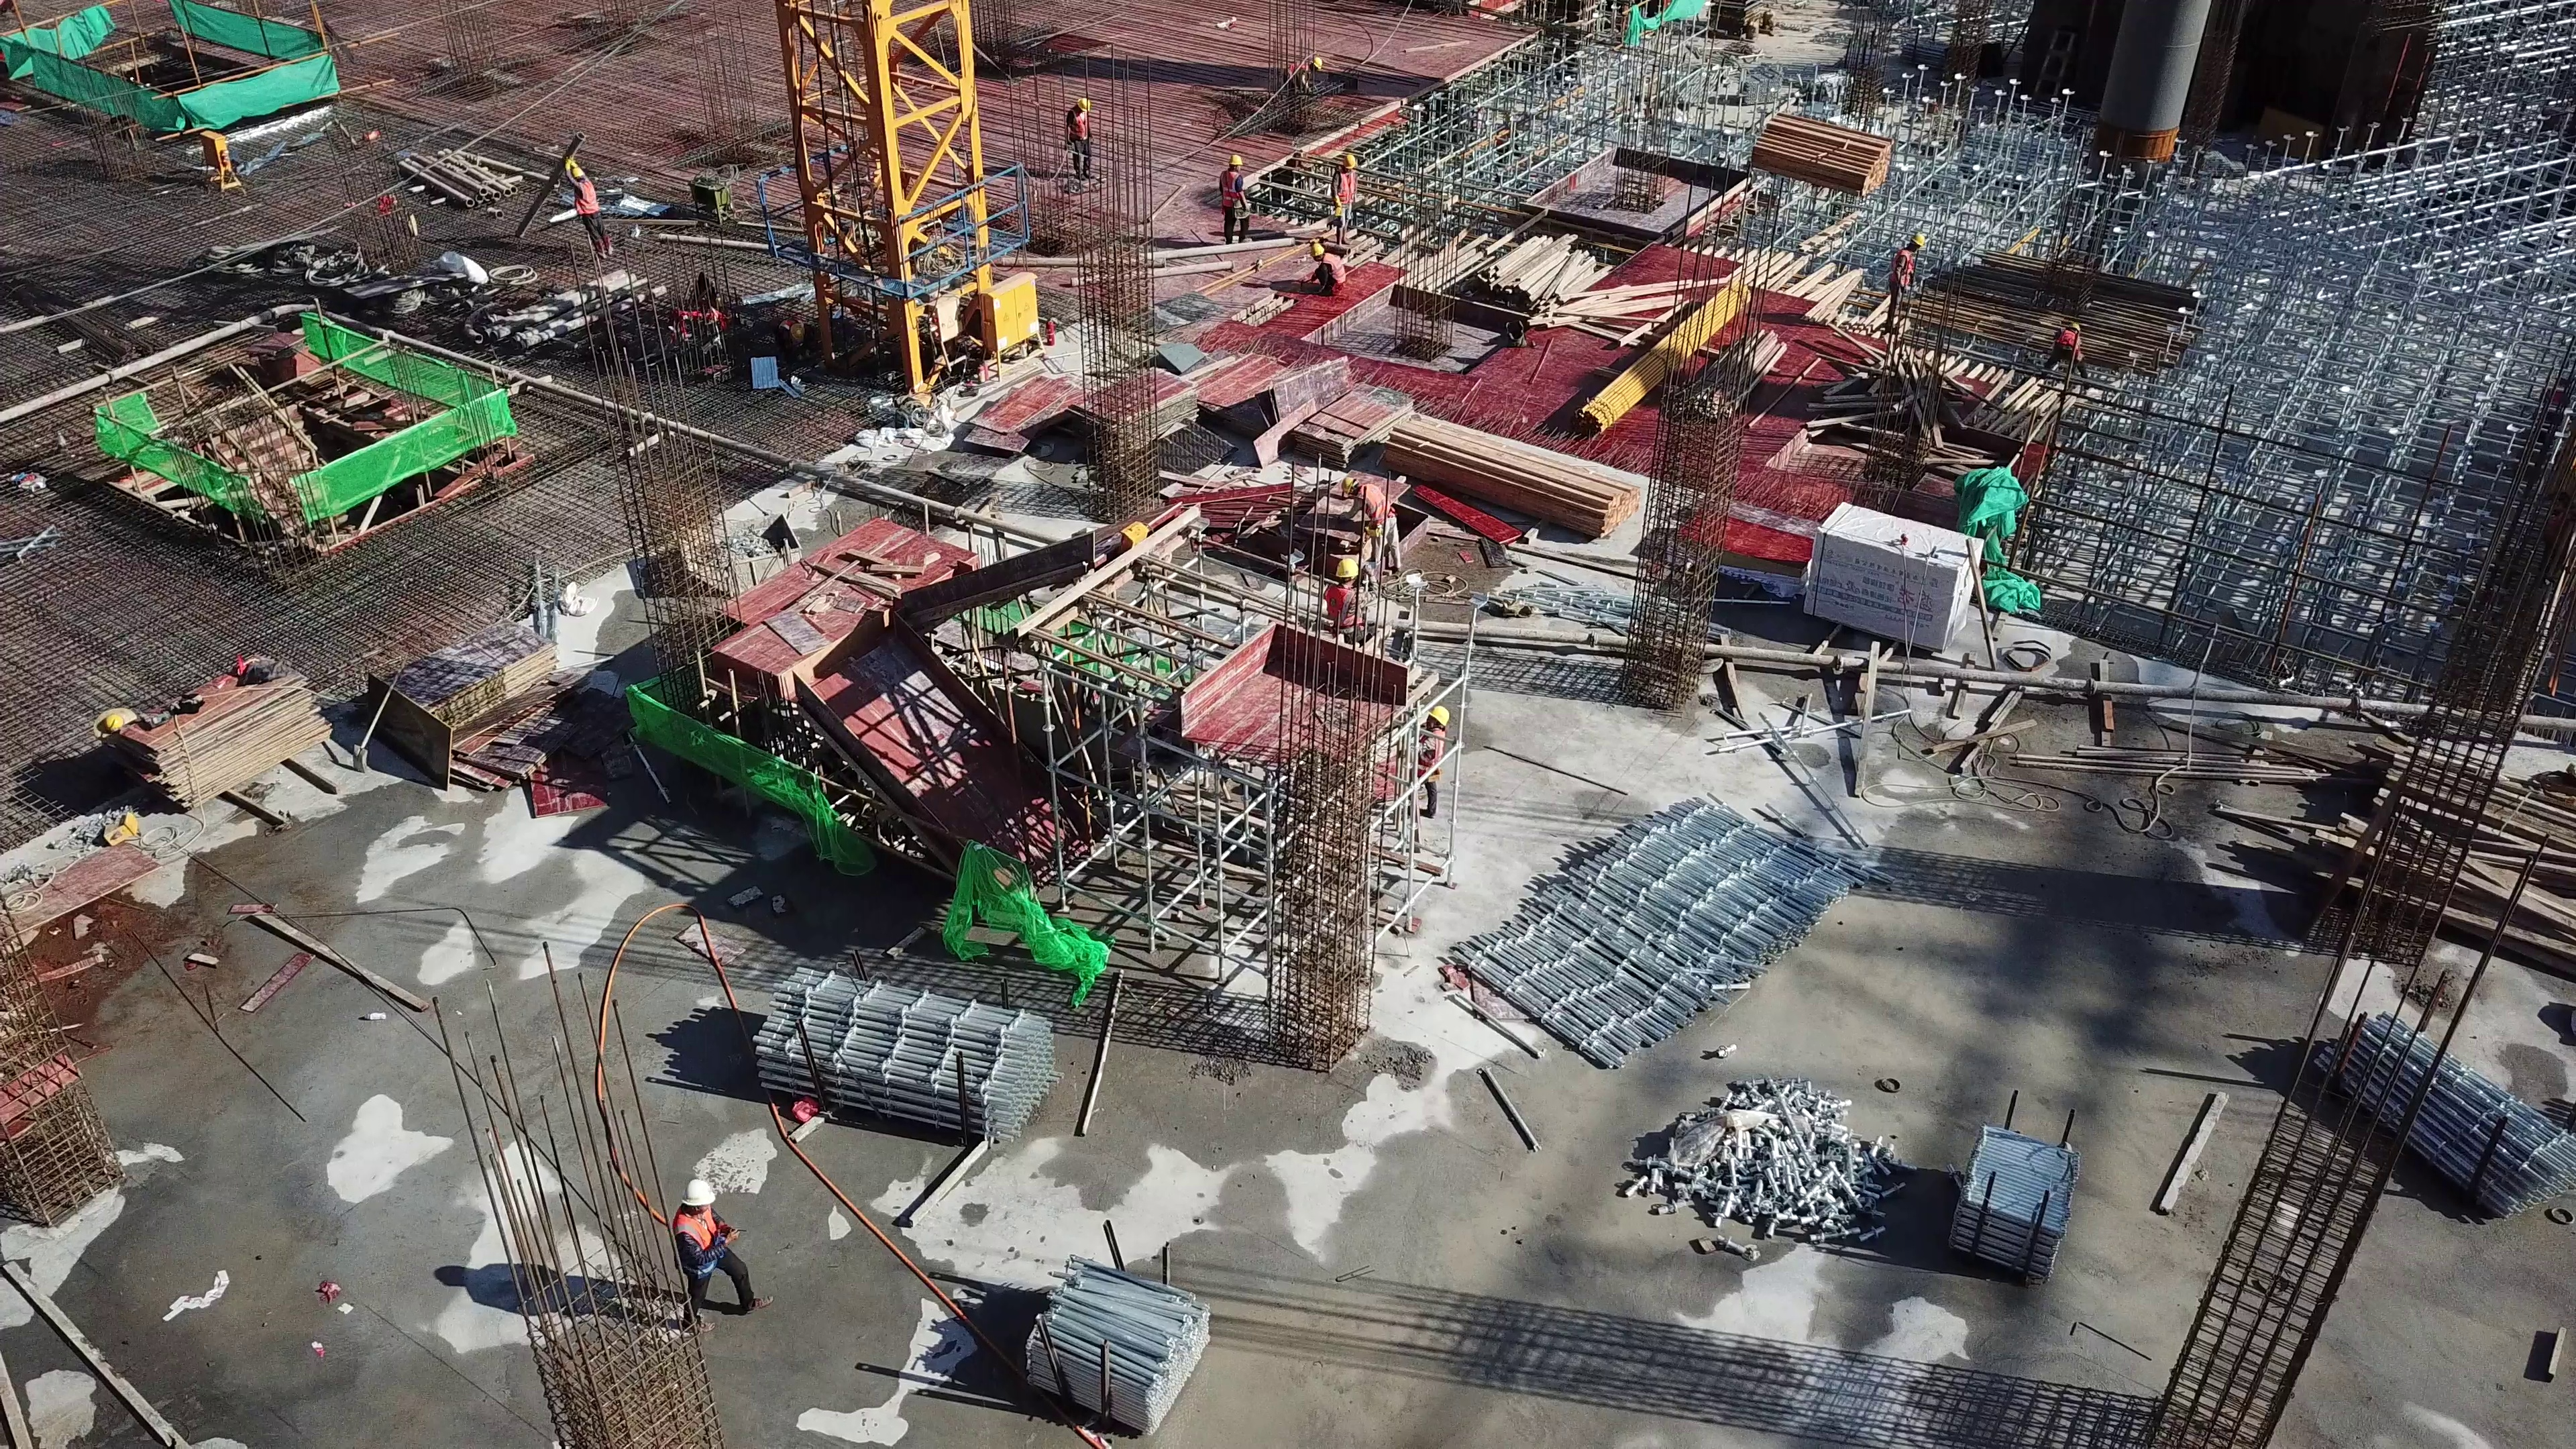board: (376, 610, 569, 792), (108, 666, 335, 818)
person: (662, 1171, 749, 1320), (1333, 462, 1409, 558), (1207, 144, 1266, 252), (1881, 231, 1928, 345), (559, 152, 609, 249), (1056, 89, 1102, 191), (2047, 316, 2100, 403), (1295, 237, 1359, 292), (1321, 552, 1362, 637), (1333, 156, 1368, 229)
scaffold: (1444, 771, 1858, 1080), (2304, 1002, 2576, 1222), (747, 967, 1059, 1127), (1020, 1267, 1230, 1439), (1957, 1138, 2085, 1273)
wood: (2277, 745, 2576, 950), (1388, 412, 1639, 543), (1403, 237, 1662, 342)
